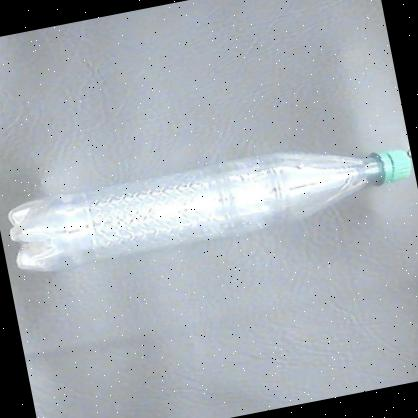bottle: (0, 124, 418, 286)
cap: (366, 142, 416, 195)
